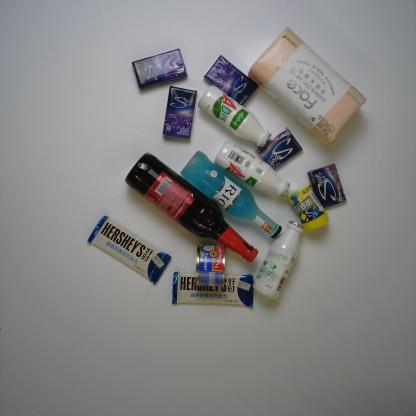Alcohol: (124, 152, 259, 263), (180, 150, 282, 239)
Canned Food: (195, 244, 226, 287)
Chocolate: (86, 215, 172, 285), (171, 271, 254, 308)
Gum: (204, 54, 259, 106), (131, 48, 188, 90), (254, 127, 303, 170), (287, 184, 329, 232), (162, 86, 198, 140), (307, 162, 347, 209)
Milk: (197, 84, 272, 148), (214, 140, 290, 198), (252, 219, 304, 300)
Tissue: (248, 26, 367, 145)
